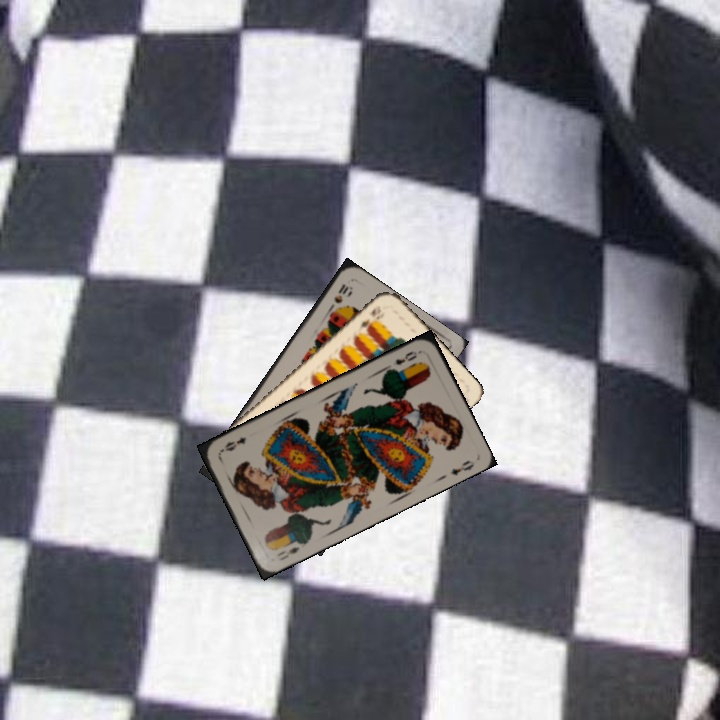E10: (354, 301, 384, 334)
EO: (386, 347, 423, 373), (273, 543, 302, 563)
S10: (325, 280, 354, 313)
